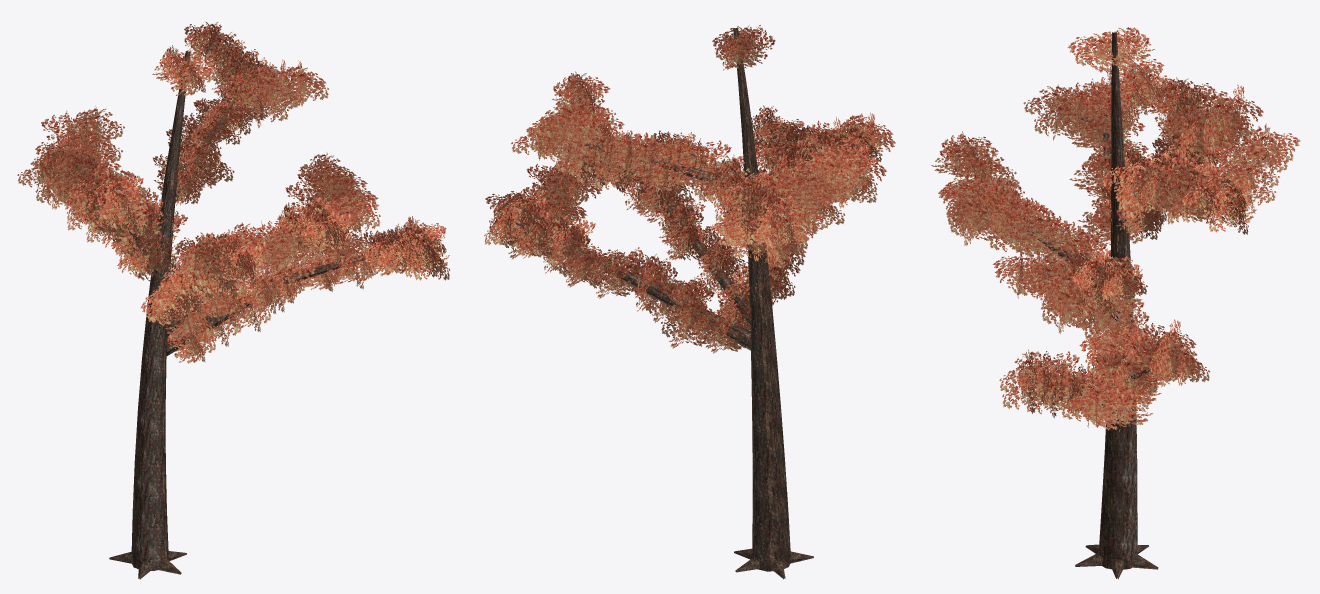
Rendered from tree_3d_04_copper_lod0.glb.
3 views of the same model, side by side, from view 1: azimuth 30°, elevation 25°; view 2: azimuth 150°, elevation 25°; view 3: azimuth 270°, elevation 25° (orthographic). The views are drawn at different scales.
Parts seen in each view (by area): view 1: foliage_cards, wood_geometry; view 2: foliage_cards, wood_geometry; view 3: foliage_cards, wood_geometry.
Part boxes in pixels (x1,y1,x2,y2): foliage_cards: [17, 22, 449, 363]; wood_geometry: [73, 42, 415, 579]; foliage_cards: [484, 25, 895, 353]; wood_geometry: [515, 27, 831, 579]; foliage_cards: [931, 27, 1300, 431]; wood_geometry: [968, 32, 1266, 579].
Size of the model in its own units: 9.37 by 11.59 by 7.14.
Materials: 2 (2 with a texture image).
